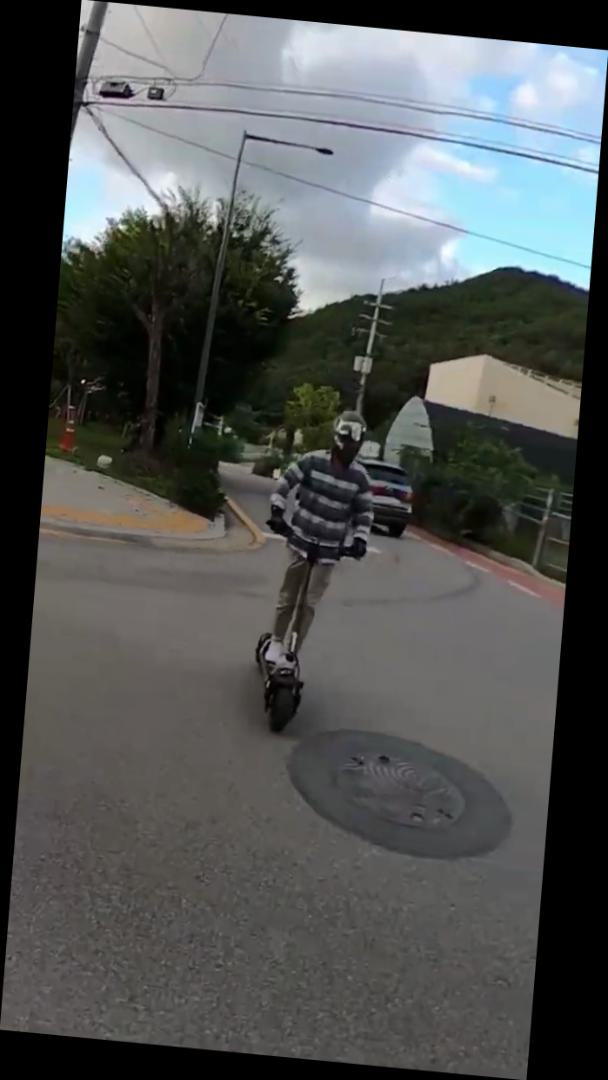helmet: (244, 401, 383, 744)
